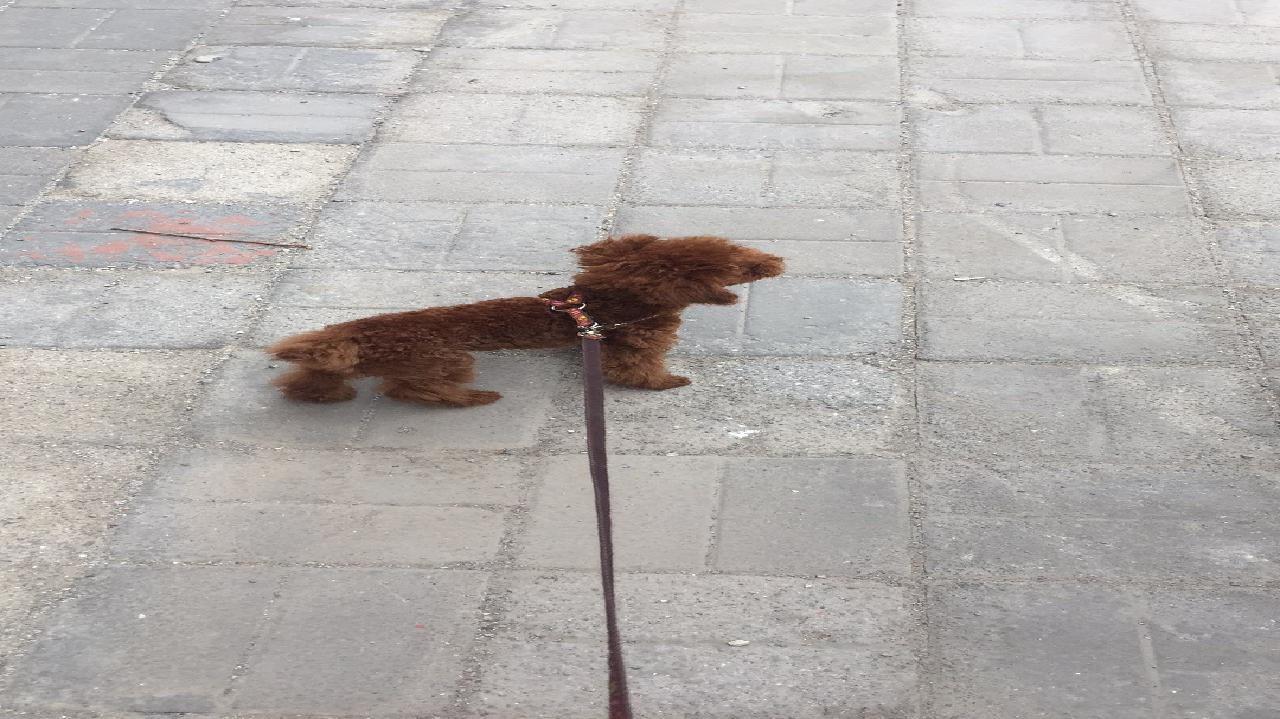coin: (249, 219, 795, 441)
